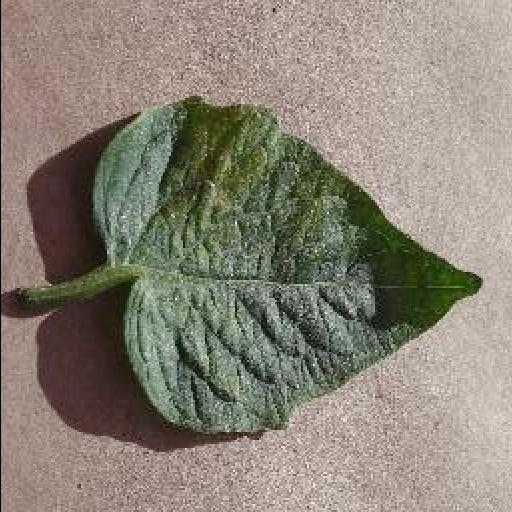disease_tomato: (90, 94, 484, 436)
